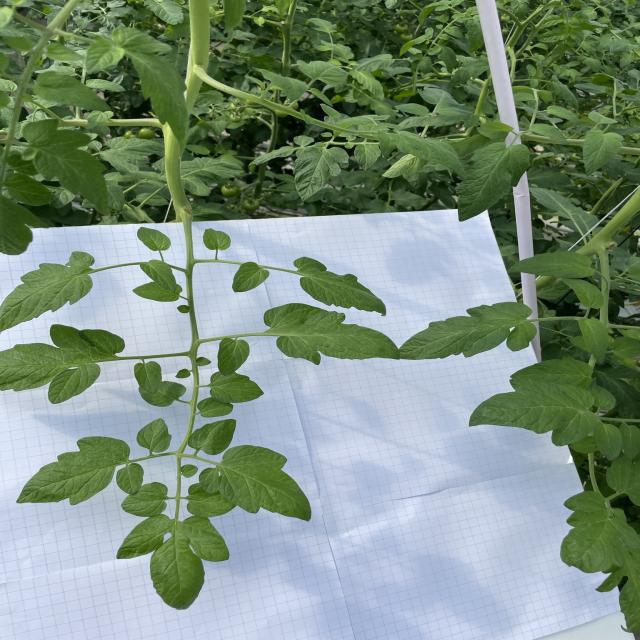Healthy Leaf: (559, 489, 640, 633), (116, 513, 230, 610), (112, 26, 189, 159), (0, 324, 125, 404), (470, 378, 600, 447), (20, 119, 111, 216), (263, 302, 399, 366), (199, 445, 312, 522), (398, 302, 536, 360), (16, 436, 130, 505), (0, 251, 95, 332), (457, 141, 531, 223), (292, 256, 387, 316), (376, 129, 468, 184), (34, 70, 112, 111), (294, 145, 349, 203), (0, 193, 49, 256), (509, 358, 594, 390), (508, 251, 594, 279), (582, 128, 624, 176), (187, 418, 237, 456), (398, 105, 480, 128), (258, 68, 308, 104), (210, 371, 264, 404), (606, 454, 640, 506), (4, 172, 55, 206), (120, 481, 168, 517), (529, 186, 579, 220), (187, 483, 237, 517), (100, 136, 164, 162), (86, 36, 126, 74), (418, 85, 467, 116), (334, 114, 391, 139), (180, 157, 247, 178), (297, 59, 348, 86), (562, 277, 604, 309), (580, 318, 608, 365), (418, 0, 465, 28), (135, 418, 172, 453), (139, 259, 177, 293), (138, 381, 187, 407), (217, 338, 250, 376), (446, 61, 489, 90), (232, 262, 270, 294), (349, 70, 385, 102), (143, 0, 184, 26), (133, 281, 183, 302), (595, 423, 622, 461), (400, 27, 434, 57), (529, 122, 570, 146), (552, 74, 578, 110), (136, 226, 172, 252), (134, 361, 162, 394), (249, 145, 293, 166), (462, 14, 484, 54), (116, 463, 144, 494), (589, 382, 616, 412), (46, 42, 85, 62), (197, 397, 234, 418), (620, 422, 640, 460), (355, 143, 381, 171), (353, 54, 395, 71), (477, 122, 514, 141), (546, 105, 582, 124), (105, 154, 140, 173), (181, 176, 212, 197), (203, 228, 231, 251), (613, 336, 640, 358), (86, 79, 128, 93), (106, 184, 125, 212), (88, 110, 114, 130), (536, 27, 566, 44), (134, 192, 170, 206), (569, 436, 597, 454), (588, 110, 619, 126), (440, 47, 458, 74), (394, 103, 430, 116), (306, 18, 337, 33), (310, 87, 333, 107), (510, 0, 530, 22), (578, 55, 602, 73), (610, 39, 639, 53), (574, 83, 608, 94), (128, 170, 160, 181), (320, 104, 340, 118), (444, 26, 465, 39), (620, 52, 636, 68), (0, 78, 18, 92), (294, 134, 314, 146), (75, 18, 90, 32), (420, 57, 431, 75), (87, 140, 103, 152), (107, 0, 127, 8), (526, 63, 536, 77)
